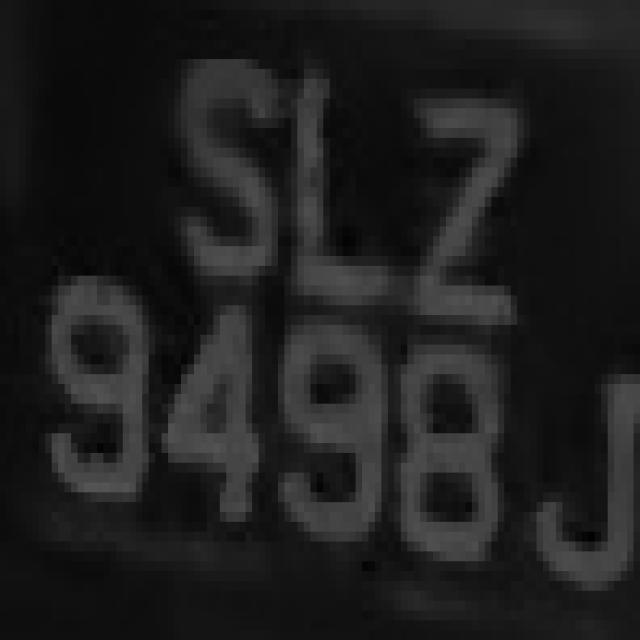4: (148, 256, 272, 571)
8: (401, 276, 530, 600)
9: (265, 256, 394, 591), (26, 227, 149, 571)
J: (5, 4, 7, 10)
L: (291, 29, 420, 325)
S: (155, 39, 278, 306)
Z: (388, 78, 530, 344)
